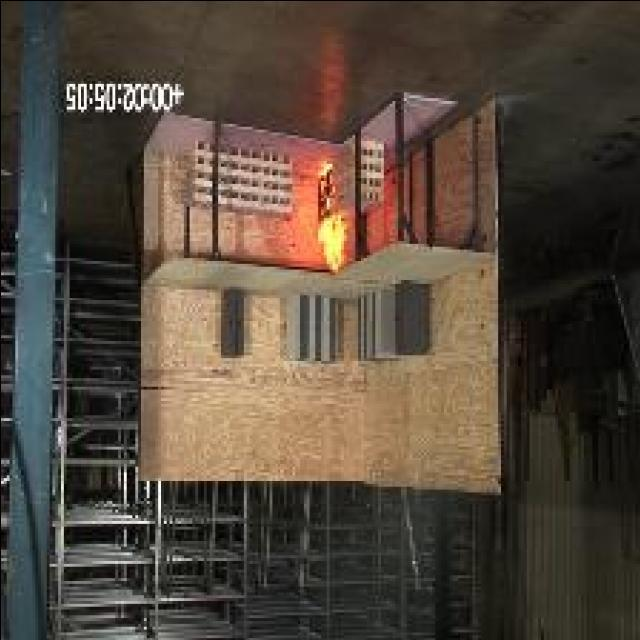Fire: (318, 214, 346, 272)
